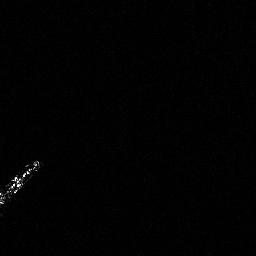ship: (1, 156, 42, 209)
